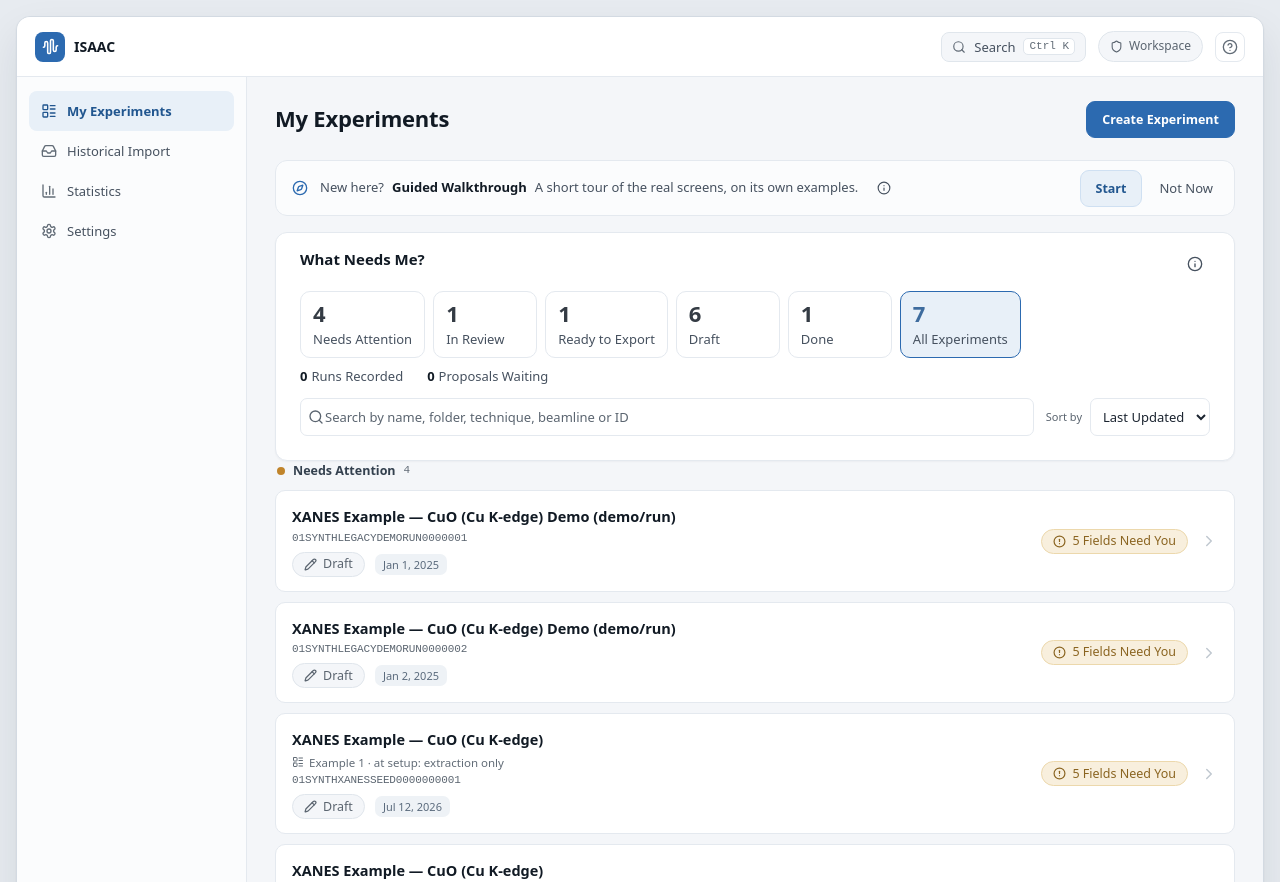
Test: P26.0b · Reset Worked Example — preview (non-mutating) & disclosure › opening the dialog previews (mode:preview) and issues no execute
Click the button with aria-label "Start Guided Walkthrough": (1111, 188) [1080,170,1142,207]
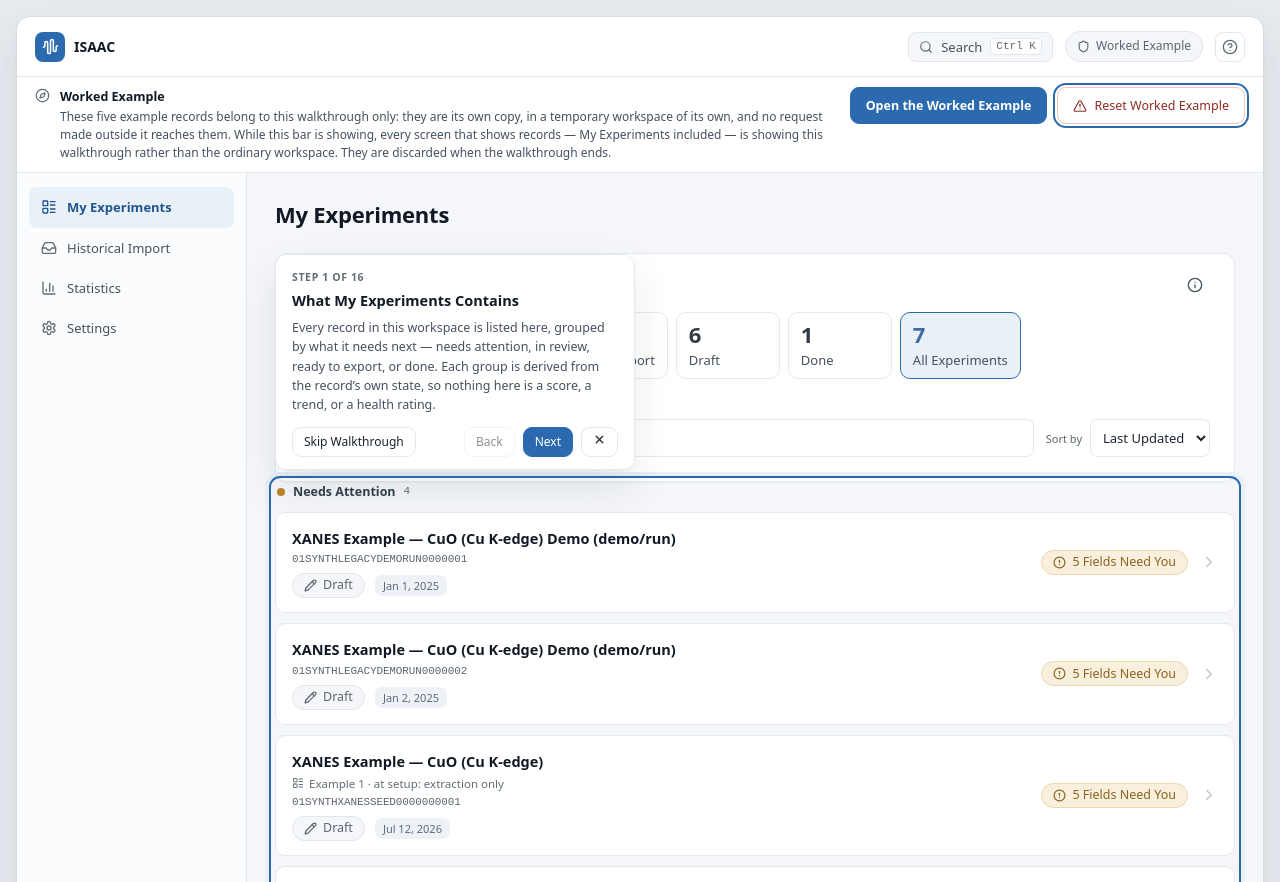
Expected: the button "Open the Worked Example" is shown, [850,87,1047,124]
Click the button "Reset Worked Example": (1151, 106) [1057,87,1245,124]
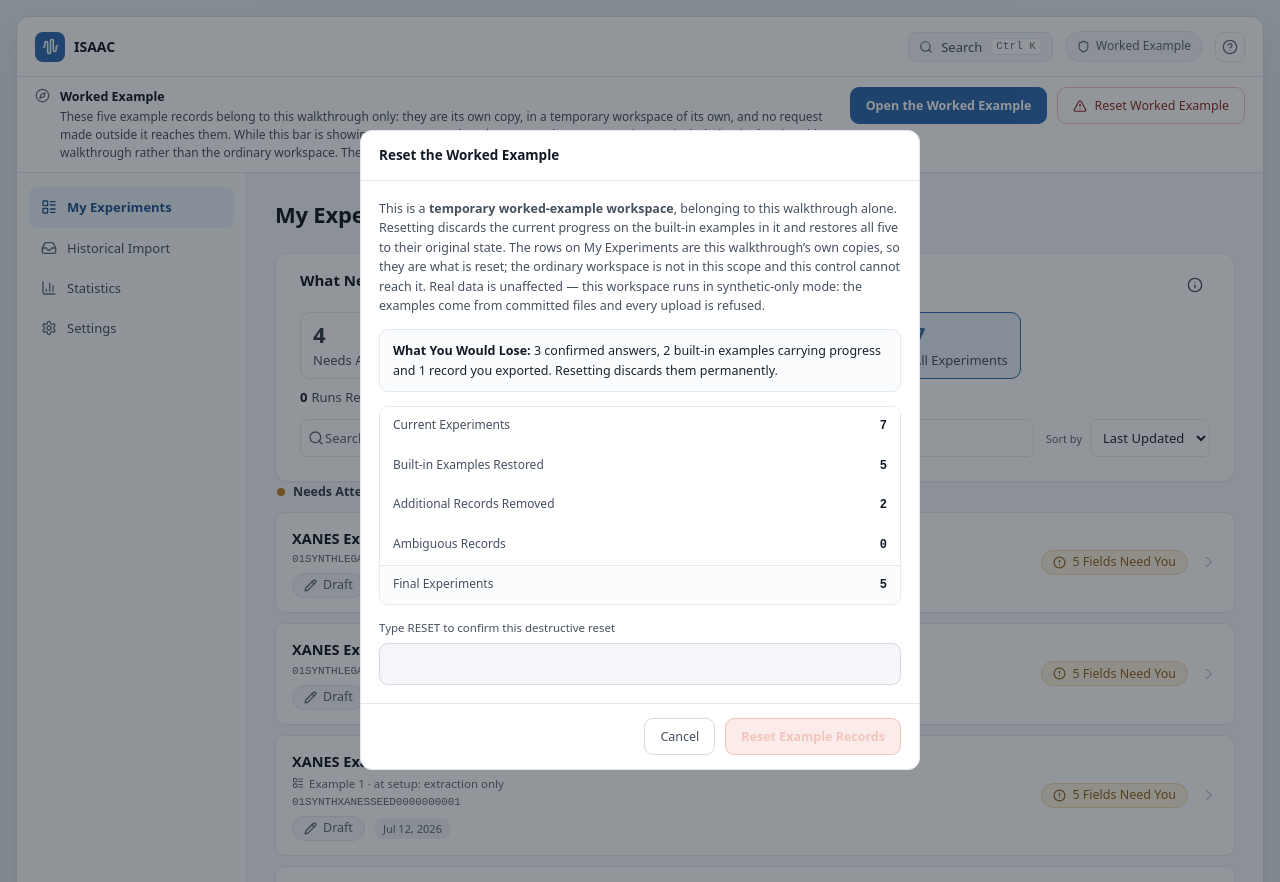
Expected: the dialog "Reset the Worked Example" is shown, [360,130,920,770]
